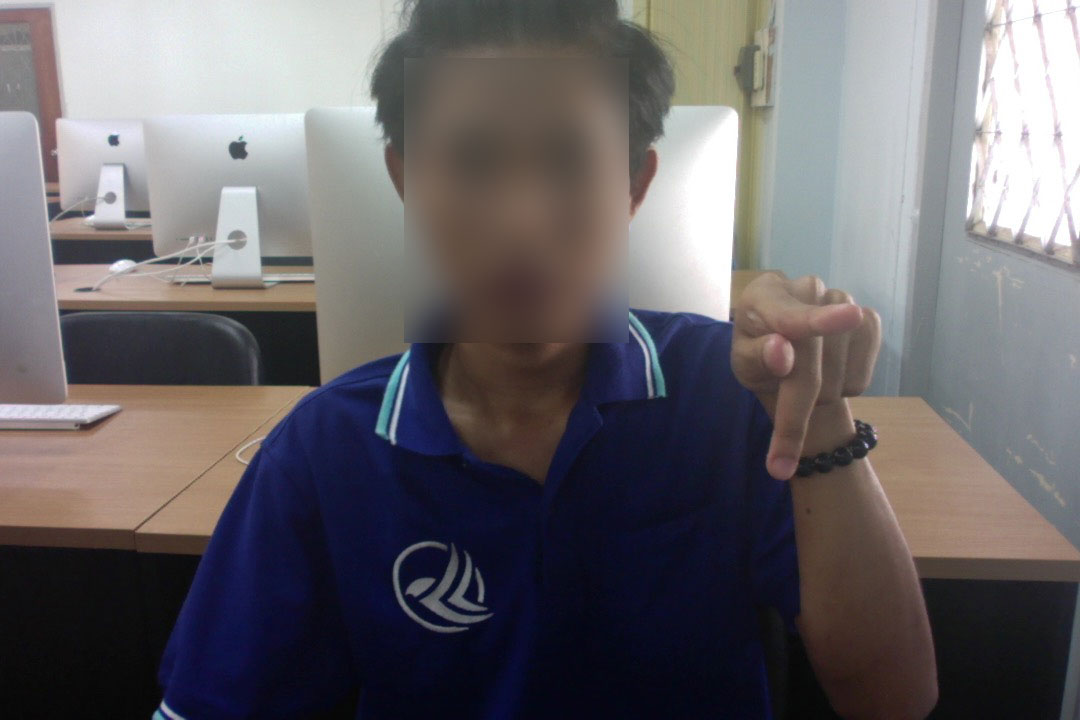por: (729, 256, 885, 482)
